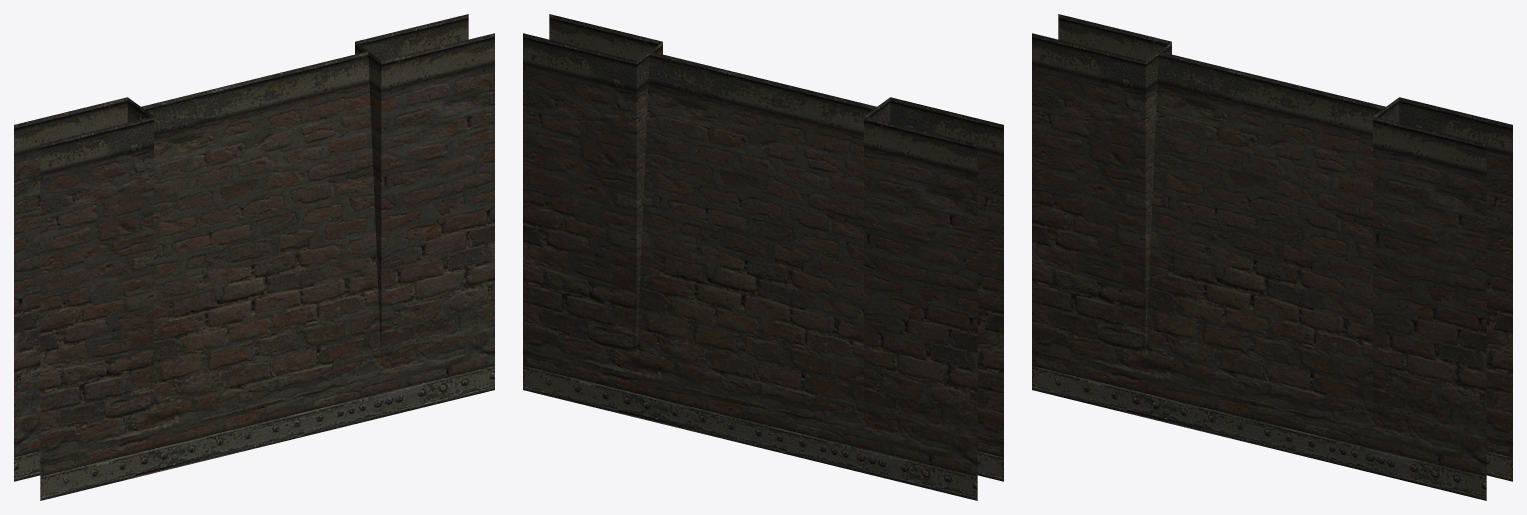
The model's file is wall_hr_1_t_1.dae.
3 views of the same model, side by side, from view 1: azimuth 30°, elevation 25°; view 2: azimuth 150°, elevation 25°; view 3: azimuth 330°, elevation 25° (orthographic).
Parts seen in each view (by area): view 1: wall_hr_1_t_1; view 2: wall_hr_1_t_1; view 3: wall_hr_1_t_1.
Part boxes in pixels (x1,y1,x2,y2): wall_hr_1_t_1: [14, 14, 494, 500]; wall_hr_1_t_1: [523, 14, 1003, 500]; wall_hr_1_t_1: [1032, 14, 1512, 500].
Size of the model in its own units: 4 by 0.4 by 3.
Materials: 1 (1 with a texture image).
